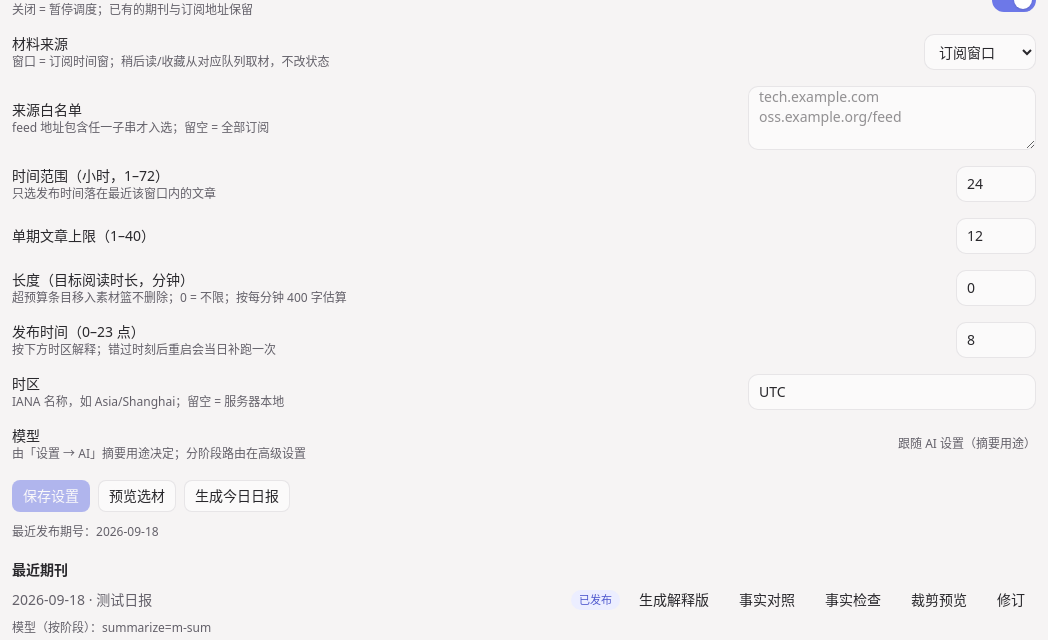
Test: N174/N175/N176 栏目、阅读时长与聚合 › 裁剪预览按需拉取并显示 before/after
The width and height of the screenshot is (1048, 640).
Expected: the text "2026-09-18 · 测试日报" is shown, [12, 590, 152, 609]
Click the button "裁剪预览" at {"x": 939, "y": 600}, box [900, 584, 978, 616]
(page scrolled)
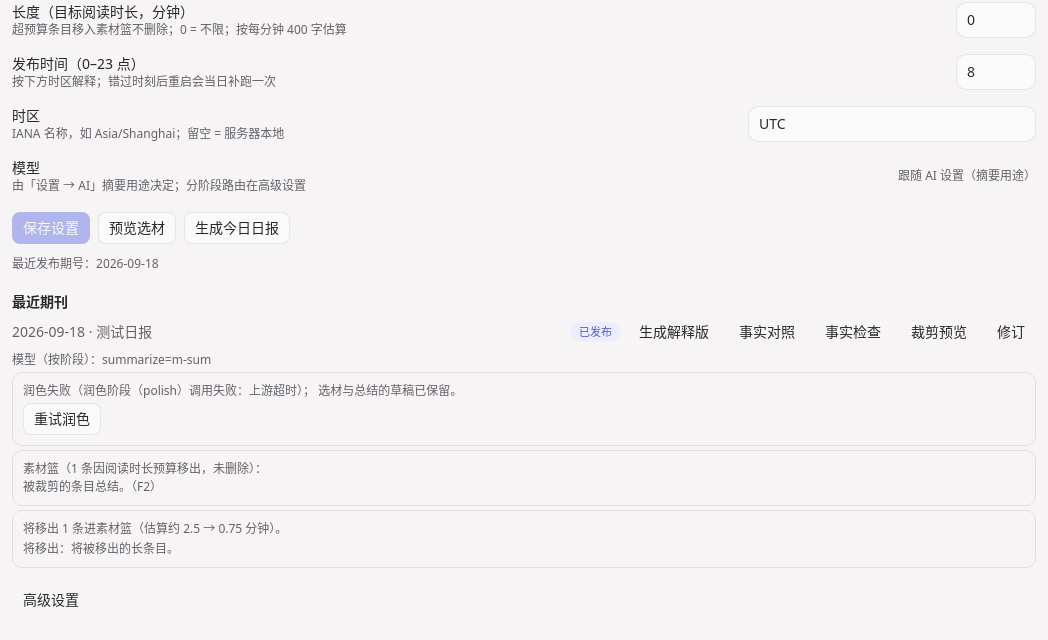
Now the text "将移出 1 条进素材篮（估算约 2.5 → 0.75 分钟）。" is shown, box [23, 520, 287, 537]
Now the list item "将移出：将被移出的长条目。" is shown, box [23, 540, 179, 557]
